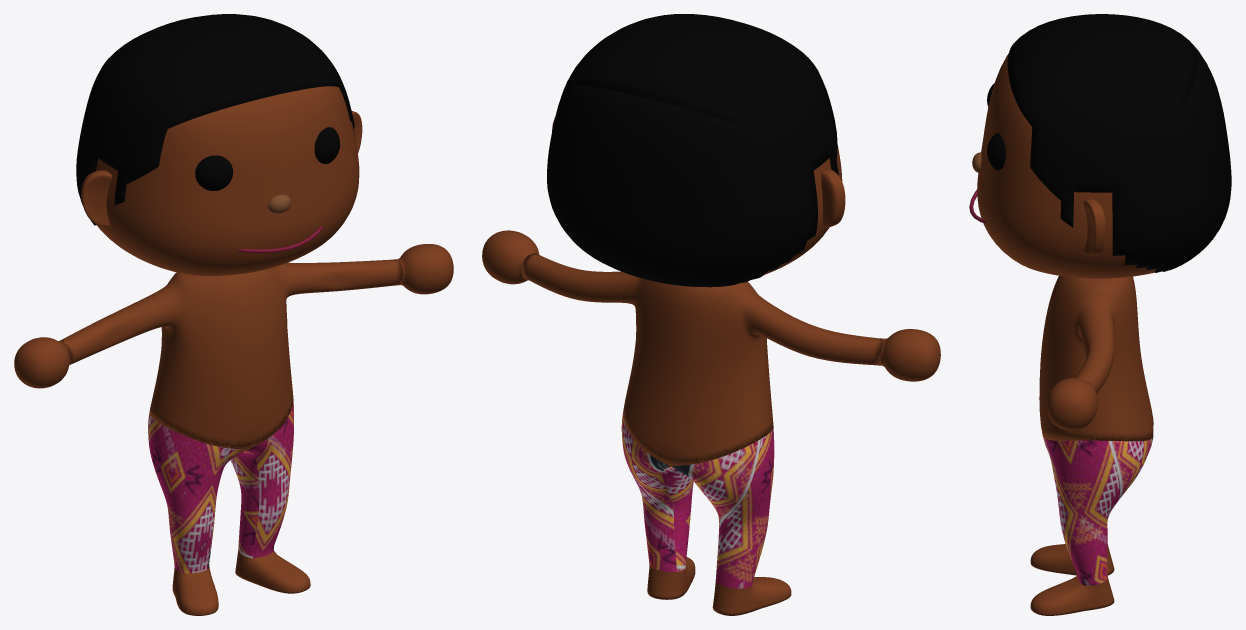
Rendered from Male NPC.fbx.
The picture shows the model from 3 angles, left to right: view 1: azimuth 30°, elevation 25°; view 2: azimuth 150°, elevation 25°; view 3: azimuth 270°, elevation 25°; orthographic projection. The views are drawn at different scales.
Visible parts, largest first — view 1: Object_7, Object_2, Object_7.001, Object_3, Object_4, Object_5, Object_6, Sphere, Object_8; view 2: Object_7.001, Object_2, Object_3, Object_4, Object_5, Object_6, Object_8, Object_7; view 3: Object_7.001, Object_2, Object_7, Object_3, Object_4, Object_6, Object_8, Sphere.
Boxes of the visible parts, x1,y1,x2,y2 form: Object_7: (96,86,359,275); Object_2: (59,259,402,449); Object_7.001: (76,14,355,225); Object_3: (148,399,293,573); Object_4: (172,550,310,615); Object_5: (14,337,70,388); Object_6: (398,244,453,294); Sphere: (195,127,340,190); Object_8: (81,111,362,226); Object_7.001: (547,14,838,287); Object_2: (521,253,885,466); Object_3: (621,414,774,588); Object_4: (647,557,791,615); Object_5: (881,329,940,381); Object_6: (482,230,539,284); Object_8: (552,117,845,227); Object_7: (764,144,842,274); Object_7.001: (1007,14,1231,272); Object_2: (1039,275,1153,441); Object_7: (977,53,1155,278); Object_3: (1043,437,1153,585); Object_4: (1030,544,1114,615); Object_6: (1046,378,1097,430); Object_8: (1083,199,1105,255); Sphere: (987,83,1005,170).
Bounding box in the file's own units: 2581 × 3109 × 1341.
